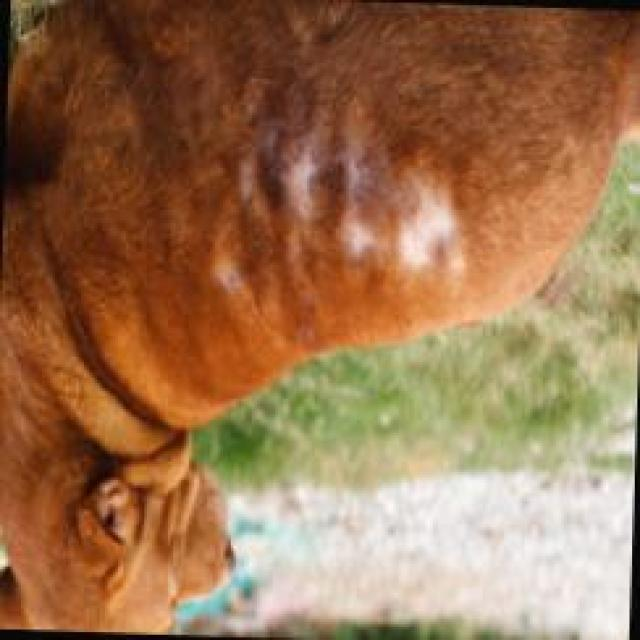fungal infection: (353, 157, 477, 276), (224, 125, 346, 224), (204, 248, 258, 296)
